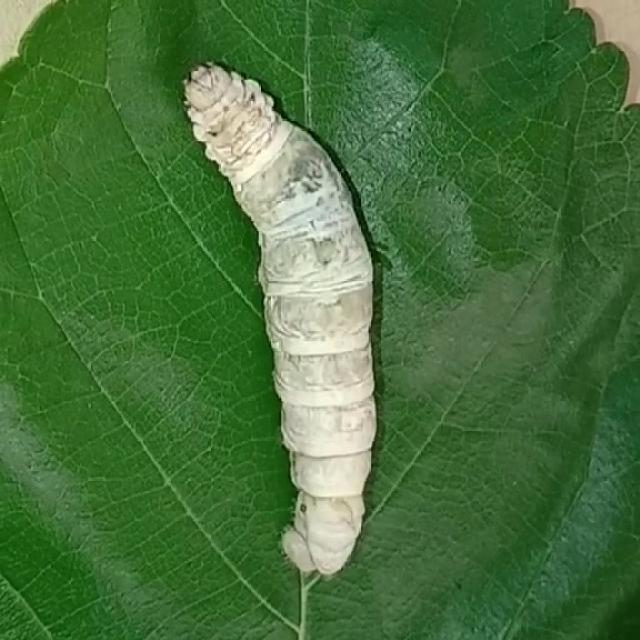Grasserie: (158, 42, 432, 594)
